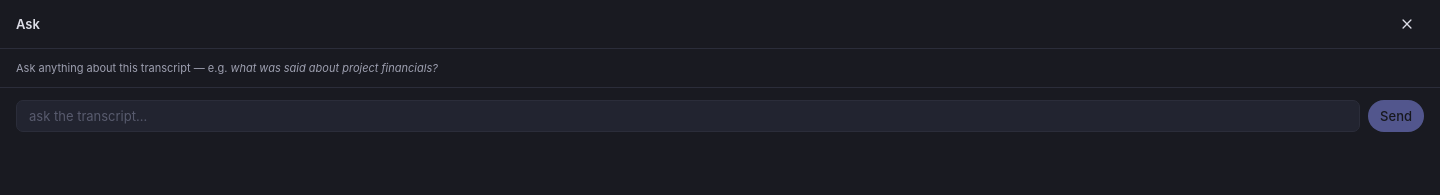
Test: AskPanel › dismisses a thread via its × button
Type "q?" into the field.
click(688, 116); type("q?")  # box [16,100,1360,132]
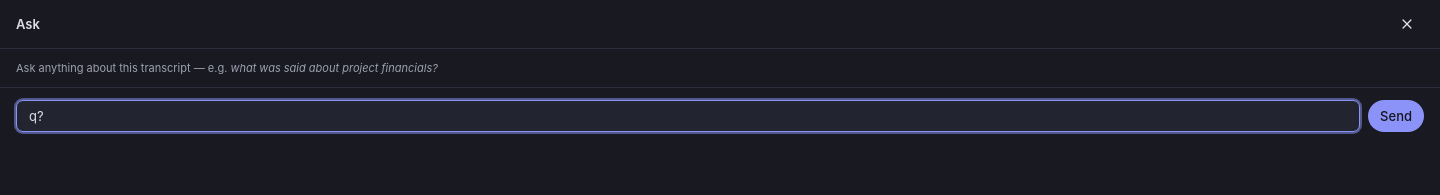
Click the button "Send".
click(1396, 116)  # box [1368,100,1424,132]
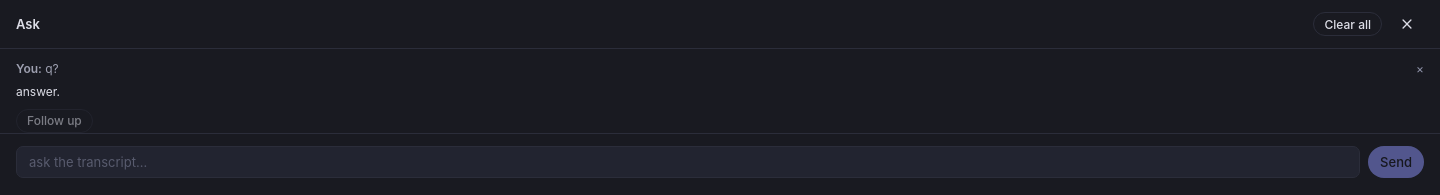
Now the text "answer." is shown, box [16,84,60,99]
Note: The dismiss button is in the thread item.
Click the button named "dismiss thread".
click(1420, 68)  # box [1416,61,1424,76]
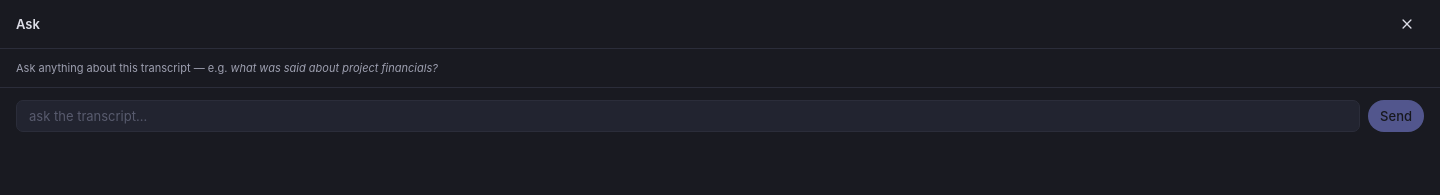
Now the text "Ask anything about this transcript" is shown, box [16,61,230,75]
